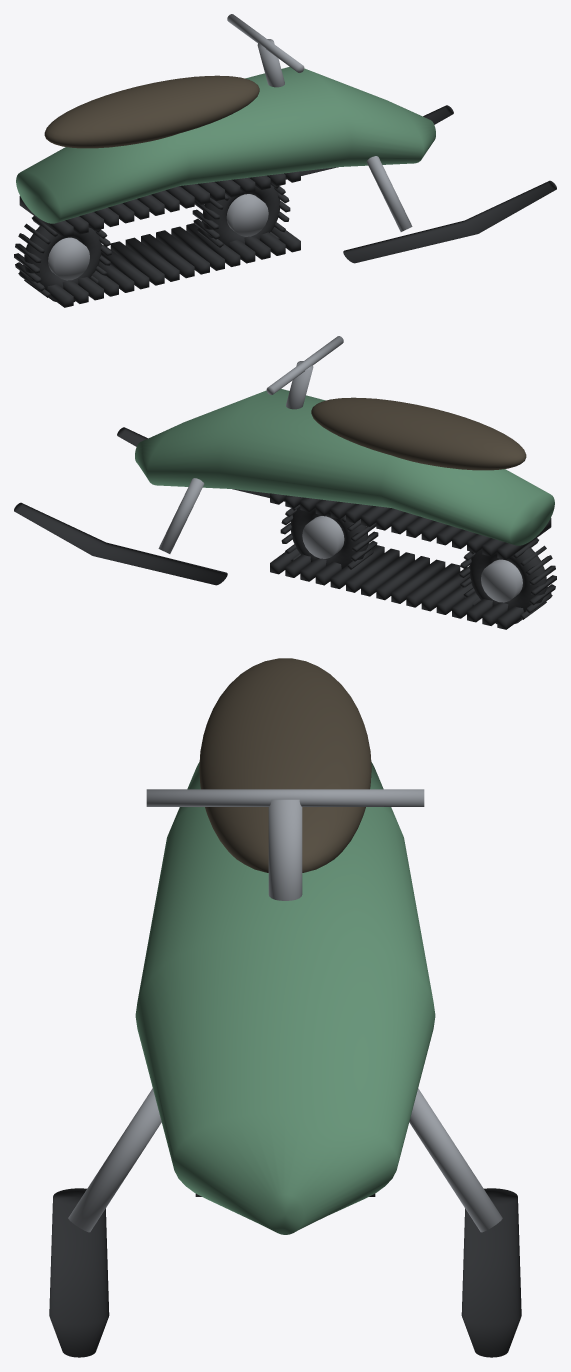
Rendered from snowmobile.glb.
3 views of the same model, one above another, from view 1: azimuth 30°, elevation 25°; view 2: azimuth 150°, elevation 25°; view 3: azimuth 270°, elevation 25° (orthographic). The views are drawn at different scales.
Parts seen in each view (by area): view 1: SM_snowmobile; view 2: SM_snowmobile; view 3: SM_snowmobile.
Boxes of the visible parts, x1,y1,x2,y2 form: SM_snowmobile: (14,14,556,307); SM_snowmobile: (14,336,556,629); SM_snowmobile: (49,658,521,1357).
Bounding box in the file's own units: 2.93 × 1.21 × 1.26.
